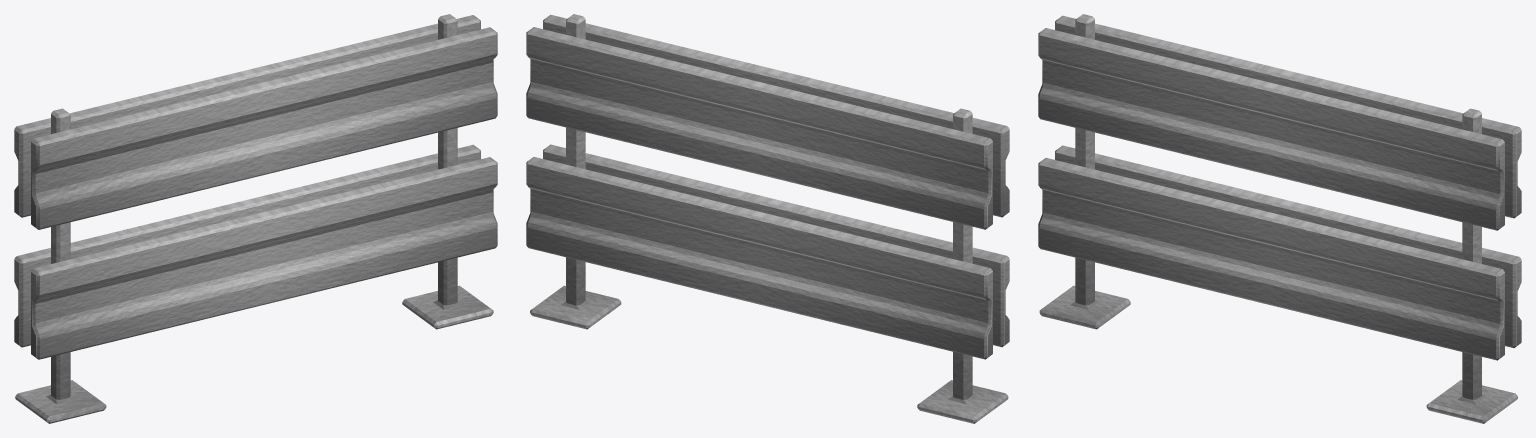
The model's file is Barrier_Double_Metal.fbx.
3 renders of one model, left to right at view 1: azimuth 30°, elevation 25°; view 2: azimuth 150°, elevation 25°; view 3: azimuth 330°, elevation 25°, orthographic.
Visible parts, largest first — view 1: Barrier_Double_Metal; view 2: Barrier_Double_Metal; view 3: Barrier_Double_Metal.
Boxes of the visible parts, bbox=[...] form: Barrier_Double_Metal: bbox=[14, 14, 497, 423]; Barrier_Double_Metal: bbox=[526, 14, 1009, 423]; Barrier_Double_Metal: bbox=[1038, 14, 1521, 423].
Bounding box in the file's own units: 95.44 × 58.1 × 12.31.
1 material, 1 textured.
